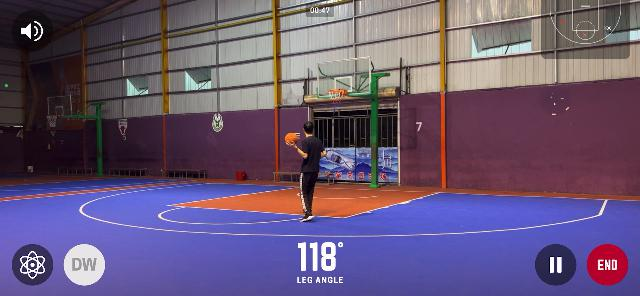ball: (284, 132, 298, 146)
basket: (327, 88, 345, 106), (46, 114, 56, 126)
